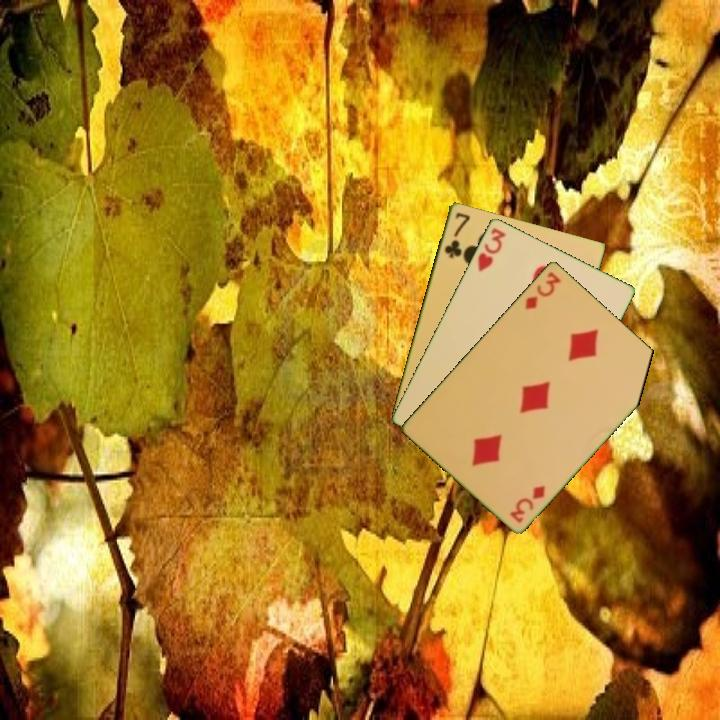3d: (521, 267, 564, 312), (506, 481, 548, 526)
3h: (474, 224, 509, 274)
7c: (441, 208, 473, 261)
